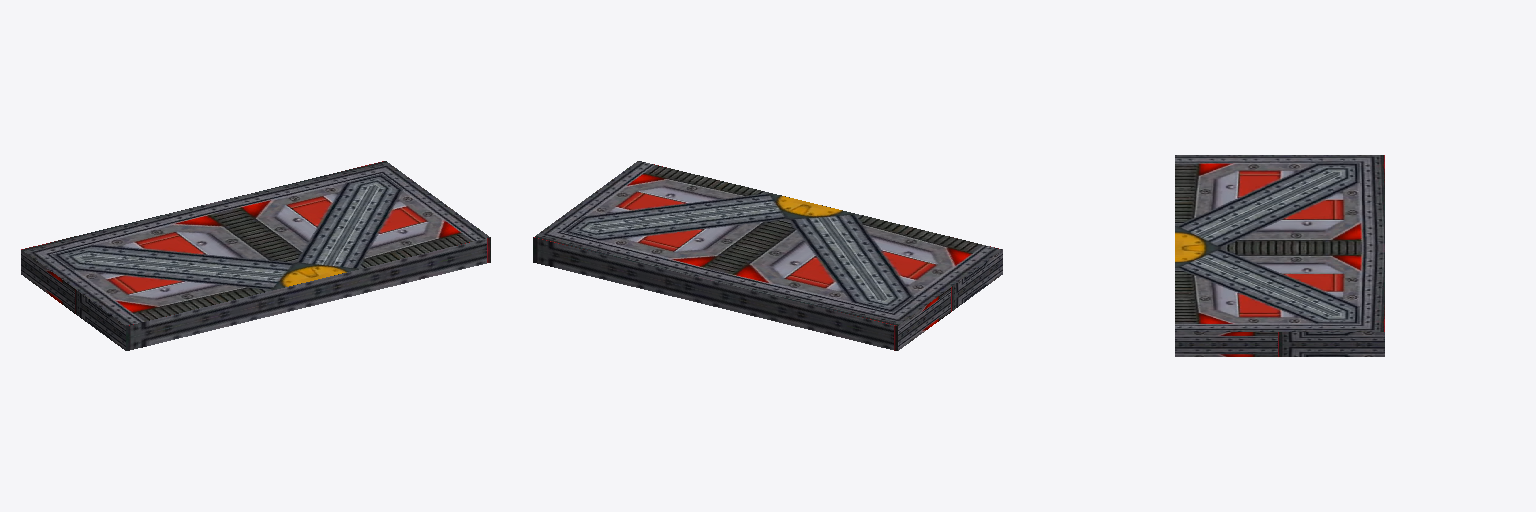
The picture shows the model from 3 angles: view 1: azimuth 30°, elevation 25°; view 2: azimuth 150°, elevation 25°; view 3: azimuth 270°, elevation 25°; orthographic projection.
Parts seen in each view (by area): view 1: EggDoor, EggDoor.001, EggDoor.001_cell.048_EggDoor.001_cell.147, EggDoor.001_cell.015_EggDoor.001_cell.114; view 2: EggDoor, EggDoor.001, EggDoor.001_cell.029_EggDoor.001_cell.128, EggDoor.001_cell.021_EggDoor.001_cell.120; view 3: EggDoor, EggDoor.001, EggDoor.001_cell.086_EggDoor.001_cell.185, EggDoor.001_cell.048_EggDoor.001_cell.147.
Part boxes in pixels (left/top/right/bottom): EggDoor: left=21, top=161, right=490, bottom=350; EggDoor.001: left=21, top=161, right=490, bottom=350; EggDoor.001_cell.048_EggDoor.001_cell.147: left=271, top=240, right=361, bottom=264; EggDoor.001_cell.015_EggDoor.001_cell.114: left=422, top=254, right=475, bottom=278; EggDoor: left=533, top=161, right=1002, bottom=350; EggDoor.001: left=533, top=162, right=1002, bottom=350; EggDoor.001_cell.029_EggDoor.001_cell.128: left=782, top=298, right=829, bottom=333; EggDoor.001_cell.021_EggDoor.001_cell.120: left=556, top=251, right=601, bottom=278; EggDoor: left=1175, top=155, right=1384, bottom=356; EggDoor.001: left=1175, top=155, right=1384, bottom=356; EggDoor.001_cell.086_EggDoor.001_cell.185: left=1175, top=233, right=1230, bottom=252; EggDoor.001_cell.048_EggDoor.001_cell.147: left=1200, top=243, right=1260, bottom=276.
Size of the model in its own units: 11.97 by 0.7893 by 5.98.
Materials: 2 (1 with a texture image).